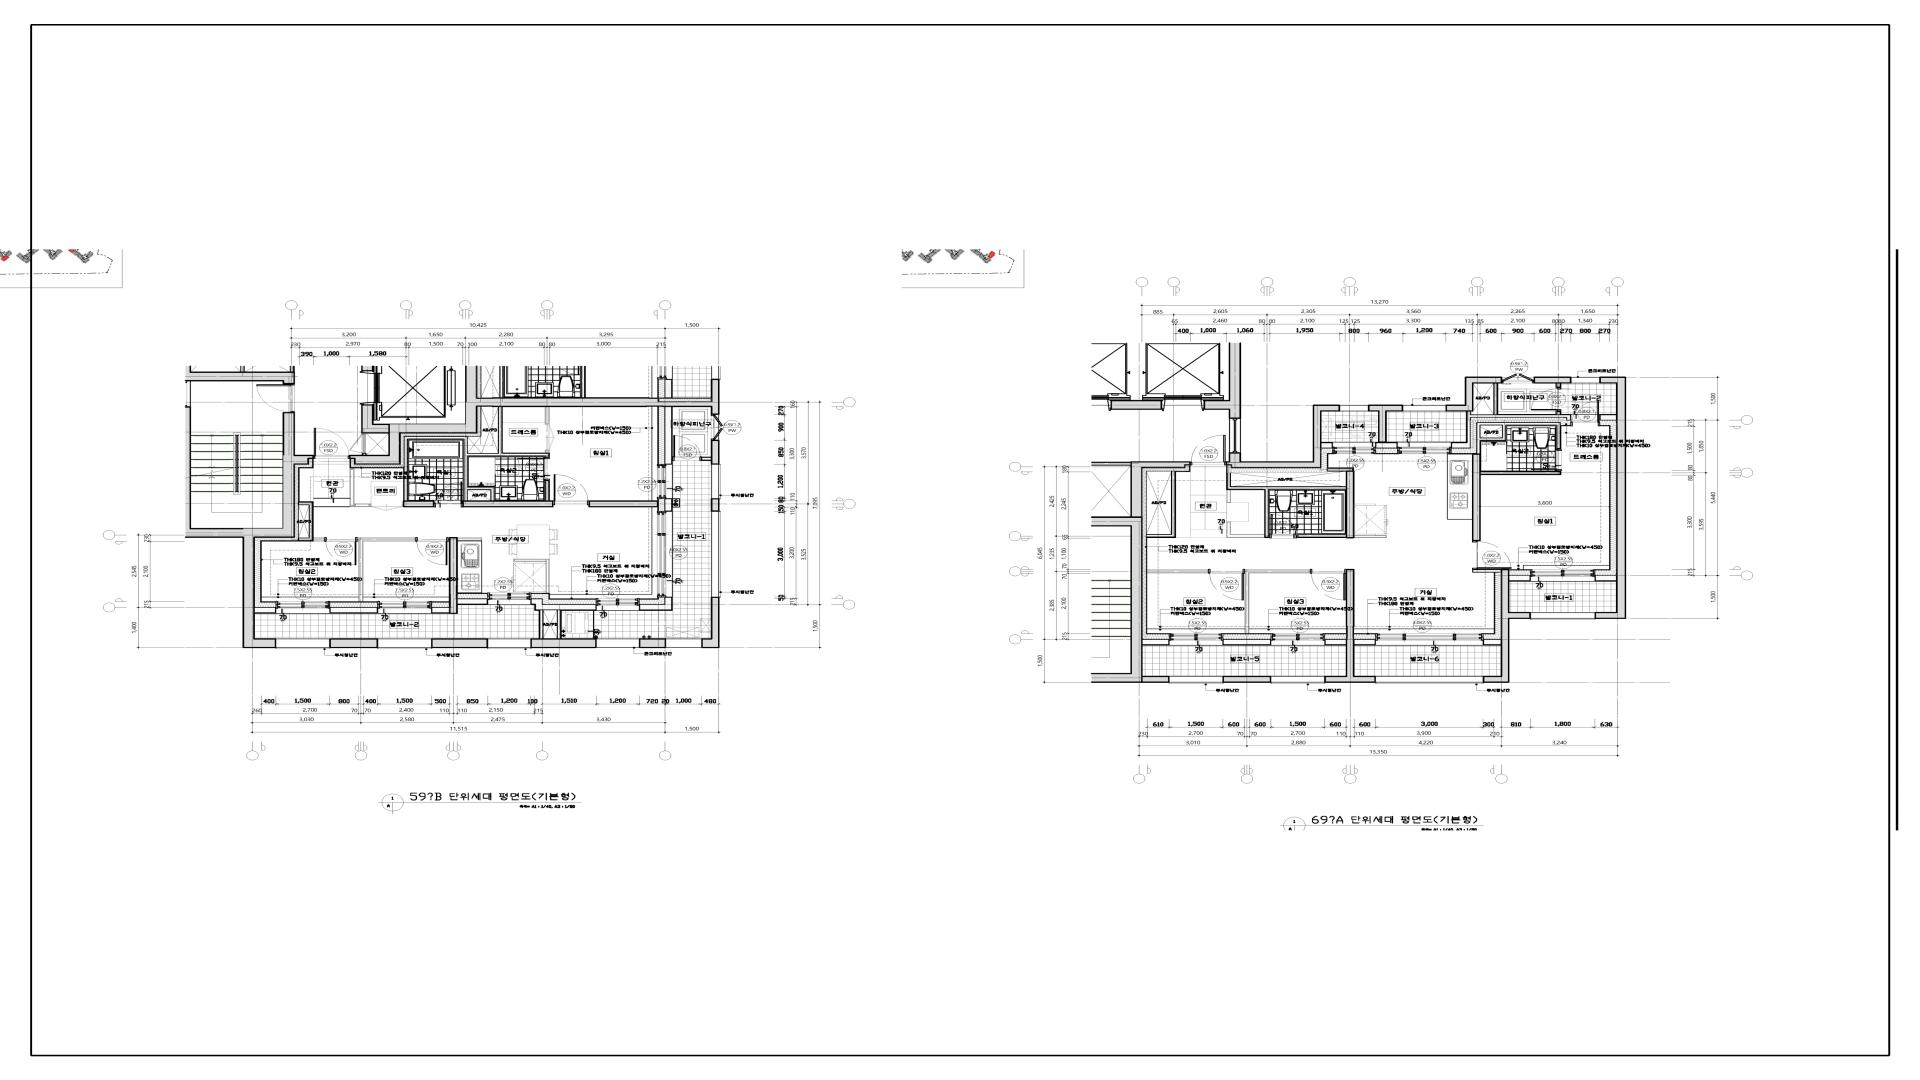door: (1208, 568, 1245, 601), (1472, 541, 1513, 570), (1309, 568, 1346, 600), (256, 384, 295, 413), (553, 473, 588, 505), (314, 427, 349, 459), (1191, 435, 1226, 465), (324, 537, 359, 566), (415, 537, 448, 566), (517, 456, 550, 481), (673, 435, 702, 462), (434, 481, 463, 508), (1572, 400, 1600, 426), (1531, 450, 1563, 471), (1270, 514, 1298, 538), (349, 434, 367, 455), (545, 425, 555, 450), (372, 504, 402, 510)
wall: (349, 365, 720, 464), (185, 413, 314, 649), (404, 407, 554, 508), (1130, 462, 1191, 683), (1226, 467, 1387, 538), (1472, 422, 1561, 541), (1452, 384, 1571, 448), (1596, 377, 1626, 618), (1226, 405, 1340, 468), (1325, 570, 1375, 683), (1484, 570, 1530, 683), (431, 538, 488, 615), (1245, 570, 1309, 633), (359, 538, 415, 601), (1204, 343, 1241, 418), (531, 599, 596, 638), (1146, 471, 1176, 538), (1445, 377, 1502, 411), (513, 559, 550, 593), (1369, 405, 1403, 442), (298, 501, 324, 542), (702, 597, 720, 647), (349, 468, 372, 506), (531, 638, 596, 649), (433, 638, 487, 649), (1112, 400, 1162, 410), (588, 501, 658, 508), (665, 407, 673, 464), (330, 638, 377, 647), (640, 597, 673, 611), (1224, 638, 1271, 646), (330, 607, 377, 613), (1224, 676, 1271, 683), (640, 638, 666, 649), (1534, 377, 1571, 384), (1147, 570, 1208, 574), (711, 440, 720, 464), (1143, 638, 1170, 646), (1325, 638, 1346, 646), (1354, 638, 1375, 646), (1375, 442, 1398, 448), (255, 607, 276, 613), (1510, 575, 1531, 582), (1596, 575, 1617, 582), (1484, 638, 1501, 646), (711, 498, 720, 510), (1600, 414, 1615, 421), (665, 498, 673, 512), (545, 407, 550, 425), (1472, 570, 1501, 572), (1321, 442, 1332, 448), (702, 456, 711, 462), (1556, 384, 1561, 388)
window: (1375, 633, 1484, 646), (657, 512, 673, 597), (711, 512, 721, 597), (1531, 570, 1596, 582), (1375, 676, 1484, 683), (1170, 633, 1224, 646), (1271, 633, 1325, 646), (276, 601, 330, 613), (377, 601, 431, 613), (1398, 442, 1452, 454), (377, 638, 433, 649), (488, 592, 531, 605), (1332, 442, 1375, 455), (276, 638, 330, 649), (657, 464, 673, 498), (1530, 612, 1596, 620), (596, 599, 640, 611), (487, 638, 531, 649), (1168, 676, 1224, 684), (1229, 418, 1241, 452), (596, 638, 640, 647), (711, 464, 721, 498), (1271, 676, 1325, 683), (711, 414, 724, 440), (1502, 373, 1534, 384), (666, 638, 702, 647), (1403, 405, 1445, 411), (1340, 405, 1369, 411), (1571, 377, 1600, 384)
